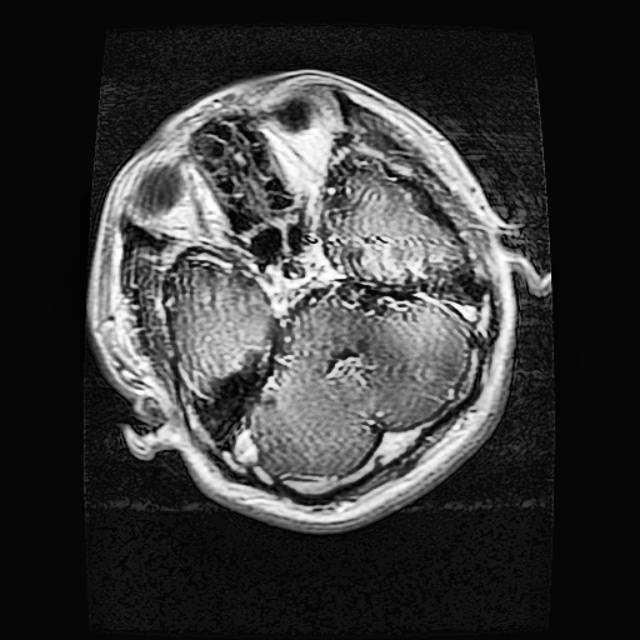Glioma: (279, 254, 305, 278)
